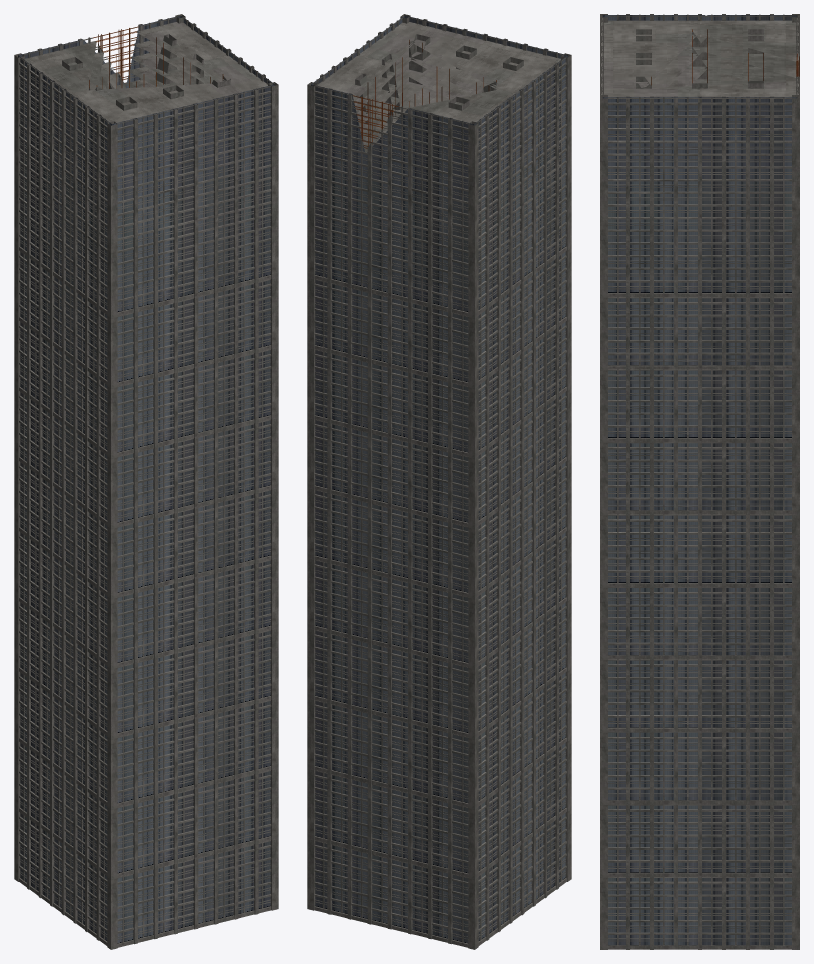
File: arena_building.glb
3 views of the same model, side by side, from view 1: azimuth 30°, elevation 25°; view 2: azimuth 150°, elevation 25°; view 3: azimuth 270°, elevation 25° (orthographic). The views are drawn at different scales.
Visible parts, largest first — view 1: Building 01; view 2: Building 01; view 3: Building 01.
Part boxes in pixels (<box>): Building 01: <box>14,14,278,949</box>; Building 01: <box>307,14,571,949</box>; Building 01: <box>600,14,799,949</box>.
Size of the model in its own units: 50 by 235 by 50.
Materials: 3 (3 with a texture image).
